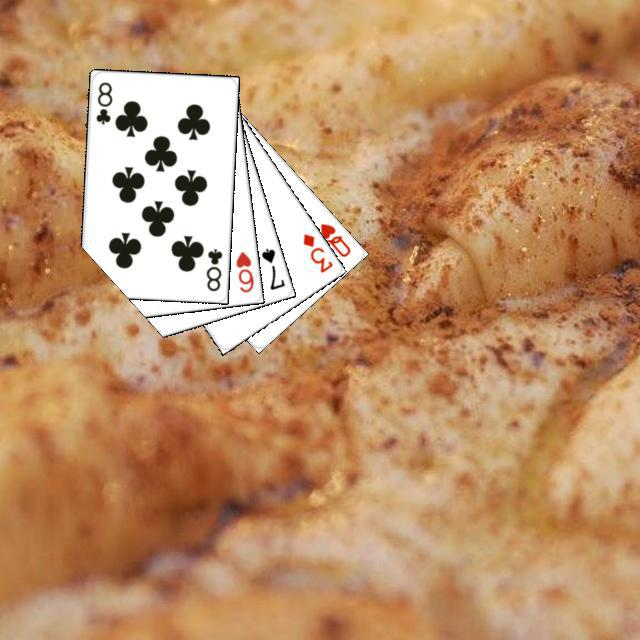3d: (298, 228, 335, 275)
6h: (231, 246, 255, 294)
7s: (256, 243, 286, 292)
8c: (201, 244, 224, 293), (91, 77, 114, 126)
Qh: (315, 218, 352, 259)
